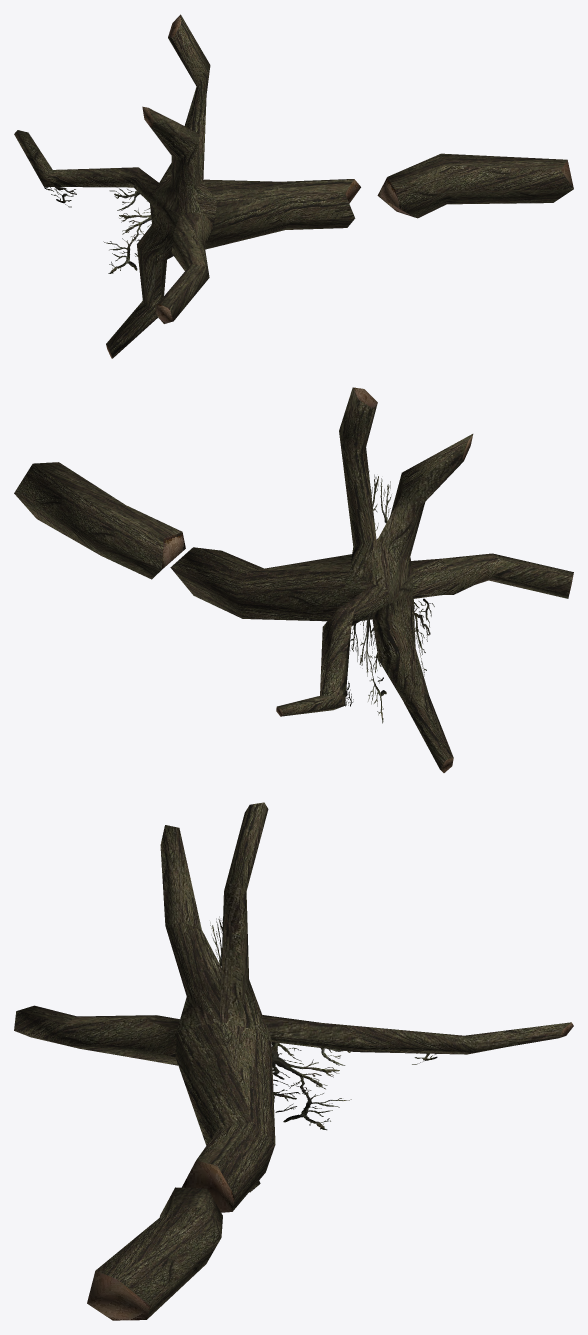
The model's file is OW_LOB_TREE_ROOT_V1.glb.
3 views of the same model, one above another, from view 1: azimuth 30°, elevation 25°; view 2: azimuth 150°, elevation 25°; view 3: azimuth 270°, elevation 25° (orthographic). The views are drawn at different scales.
Parts seen in each view (by area): view 1: Mesh; view 2: Mesh; view 3: Mesh.
Part boxes in pixels (left/top/right/bottom): Mesh: left=14, top=14, right=573, bottom=358; Mesh: left=14, top=387, right=573, bottom=772; Mesh: left=14, top=802, right=573, bottom=1320.
Size of the model in its own units: 17.17 by 11.9 by 13.74.
Materials: 3 (3 with a texture image).
